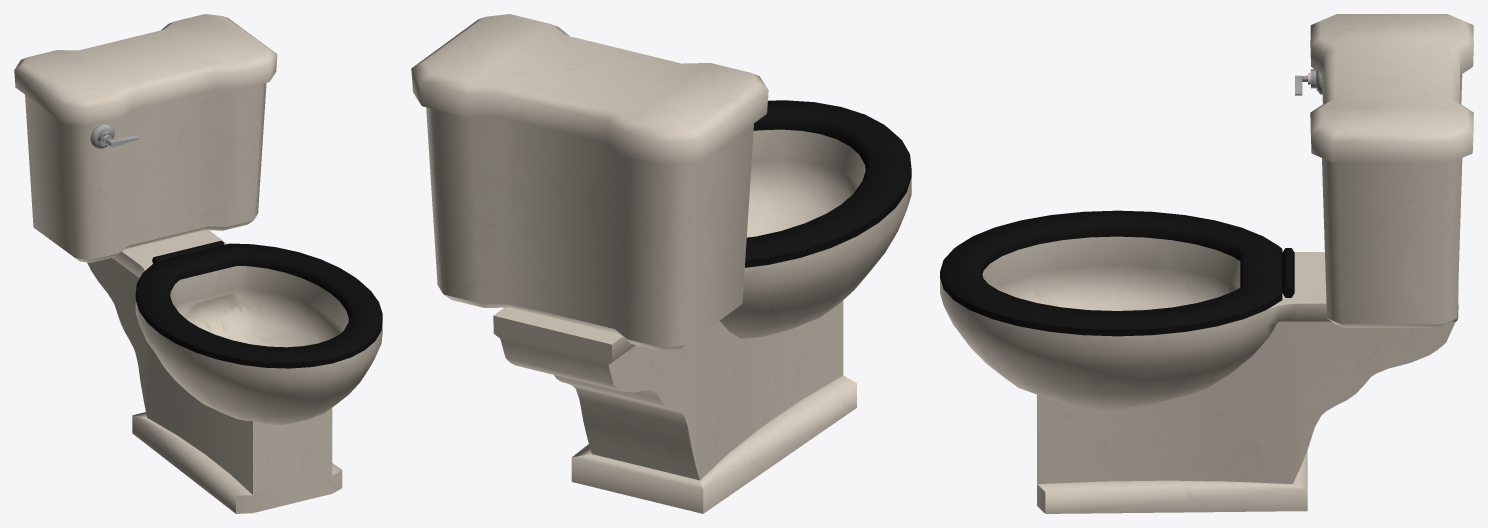
File: Toilet.FBX
The picture shows the model from 3 angles, left to right: view 1: azimuth 30°, elevation 25°; view 2: azimuth 150°, elevation 25°; view 3: azimuth 270°, elevation 25°; orthographic projection. The views are drawn at different scales.
Visible parts, largest first — view 1: Toilet_LOD0; view 2: Toilet_LOD0; view 3: Toilet_LOD0.
Boxes of the visible parts, x1,y1,x2,y2 form: Toilet_LOD0: (14, 14, 382, 513); Toilet_LOD0: (411, 14, 911, 513); Toilet_LOD0: (940, 14, 1473, 513).
Size of what is drawn, in the model's own units: 52.86 by 80.01 by 94.47.
